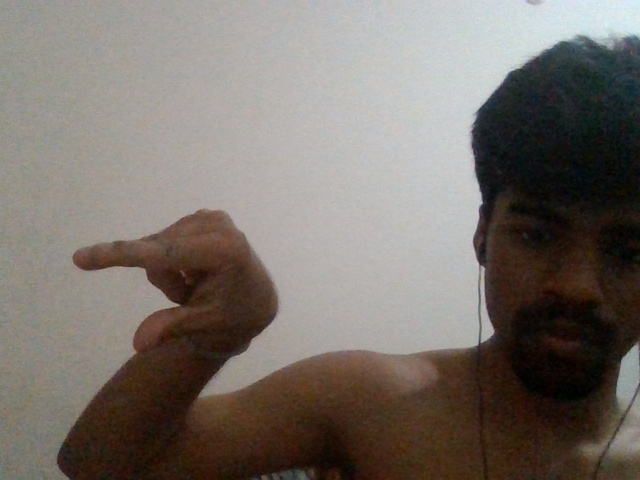No: (64, 205, 287, 357)
